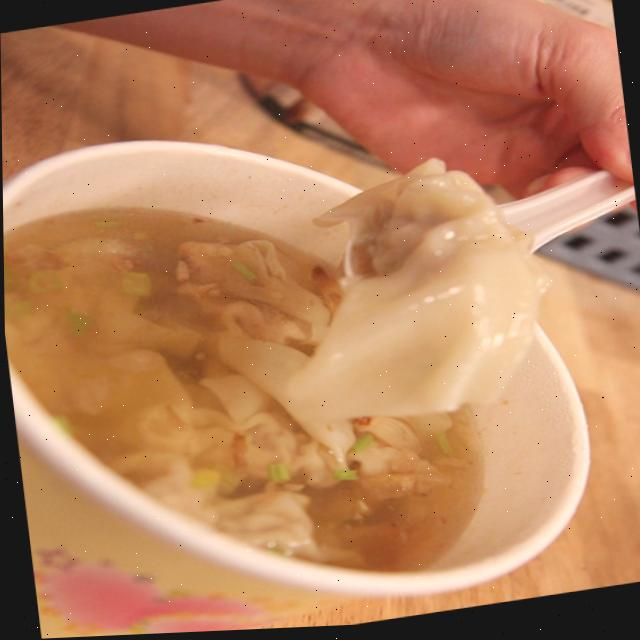汤锅炖物: (1, 49, 629, 640)
